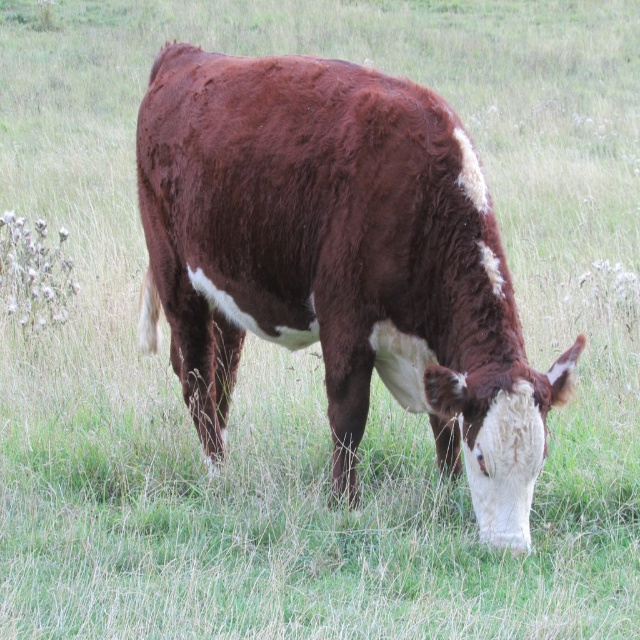Cattle: (136, 38, 587, 560)
